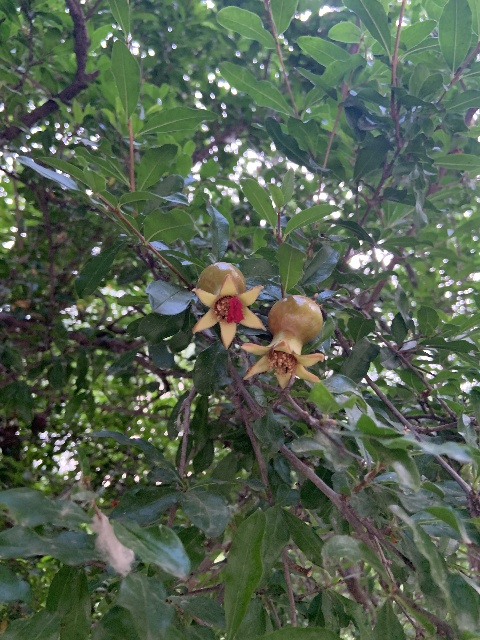early-fruit: (240, 294, 324, 389), (190, 262, 264, 350)
